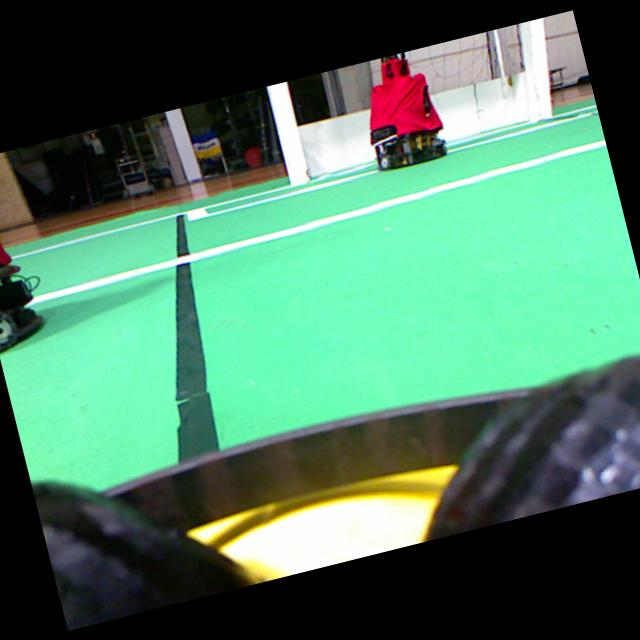ball: (187, 465, 455, 580)
goal: (266, 81, 308, 185), (518, 17, 551, 120)
